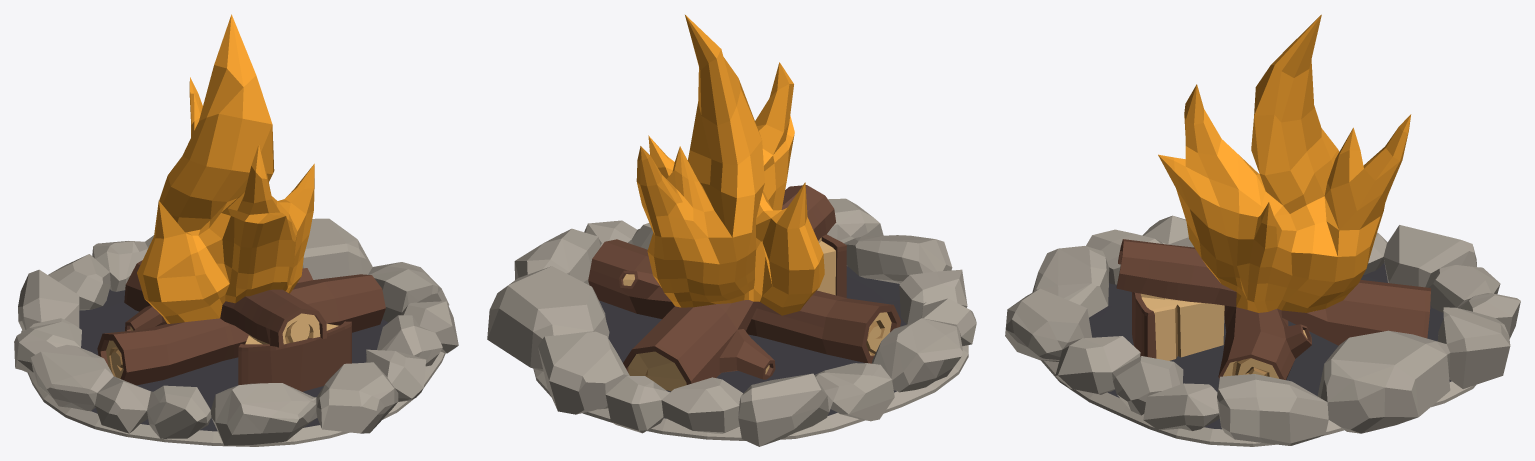
File: Fogata.fbx
3 renders of one model, left to right at view 1: azimuth 30°, elevation 25°; view 2: azimuth 150°, elevation 25°; view 3: azimuth 270°, elevation 25°, orthographic. The views are drawn at different scales.
Visible parts, largest first — view 1: Campfire, plate; view 2: Campfire, plate; view 3: Campfire, plate.
Part boxes in pixels (x1=…): Campfire: x1=97, y1=14, x2=385, y2=391; plate: x1=14, y1=218, x2=458, y2=446; Campfire: x1=588, y1=15, x2=900, y2=391; plate: x1=487, y1=198, x2=976, y2=446; Campfire: x1=1116, y1=14, x2=1430, y2=379; plate: x1=1005, y1=215, x2=1520, y2=446.
Size of the model in its own units: 310 by 240 by 324.
